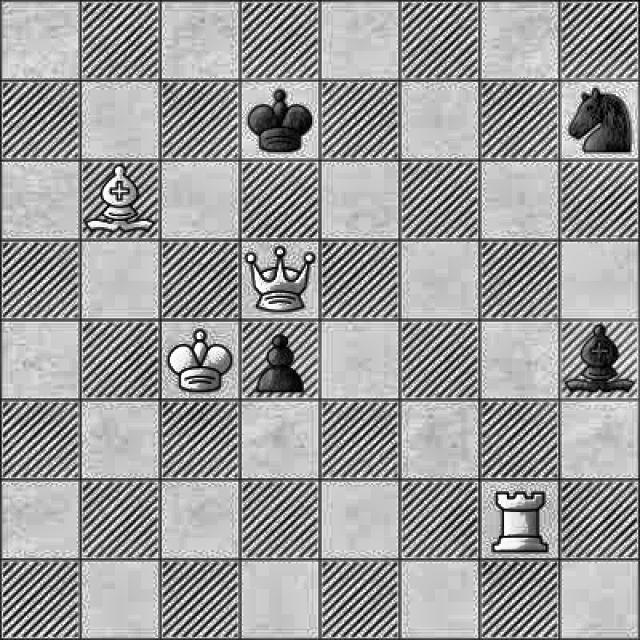Black Knight: (560, 80, 640, 157)
black bishop: (558, 320, 640, 397)
black king: (243, 84, 313, 160)
black pawn: (250, 314, 308, 395)
white bishop: (81, 164, 156, 241)
white king: (167, 324, 237, 399)
white queen: (241, 242, 316, 316)
white rook: (484, 482, 556, 559)
